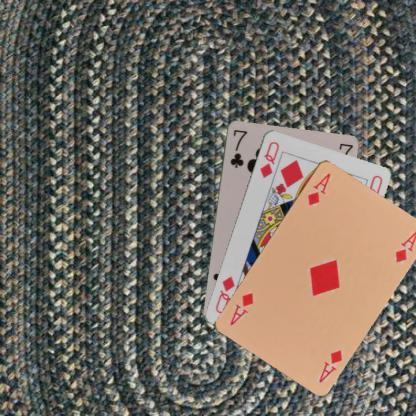7c: (228, 127, 248, 168)
Ad: (304, 170, 332, 208), (316, 346, 344, 384)
Qd: (257, 138, 280, 180)
